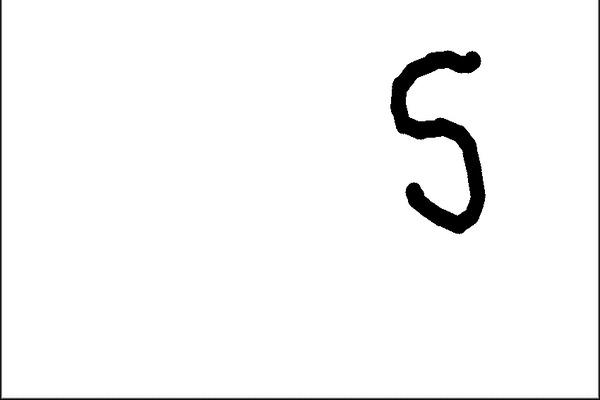S: (374, 43, 495, 238)
